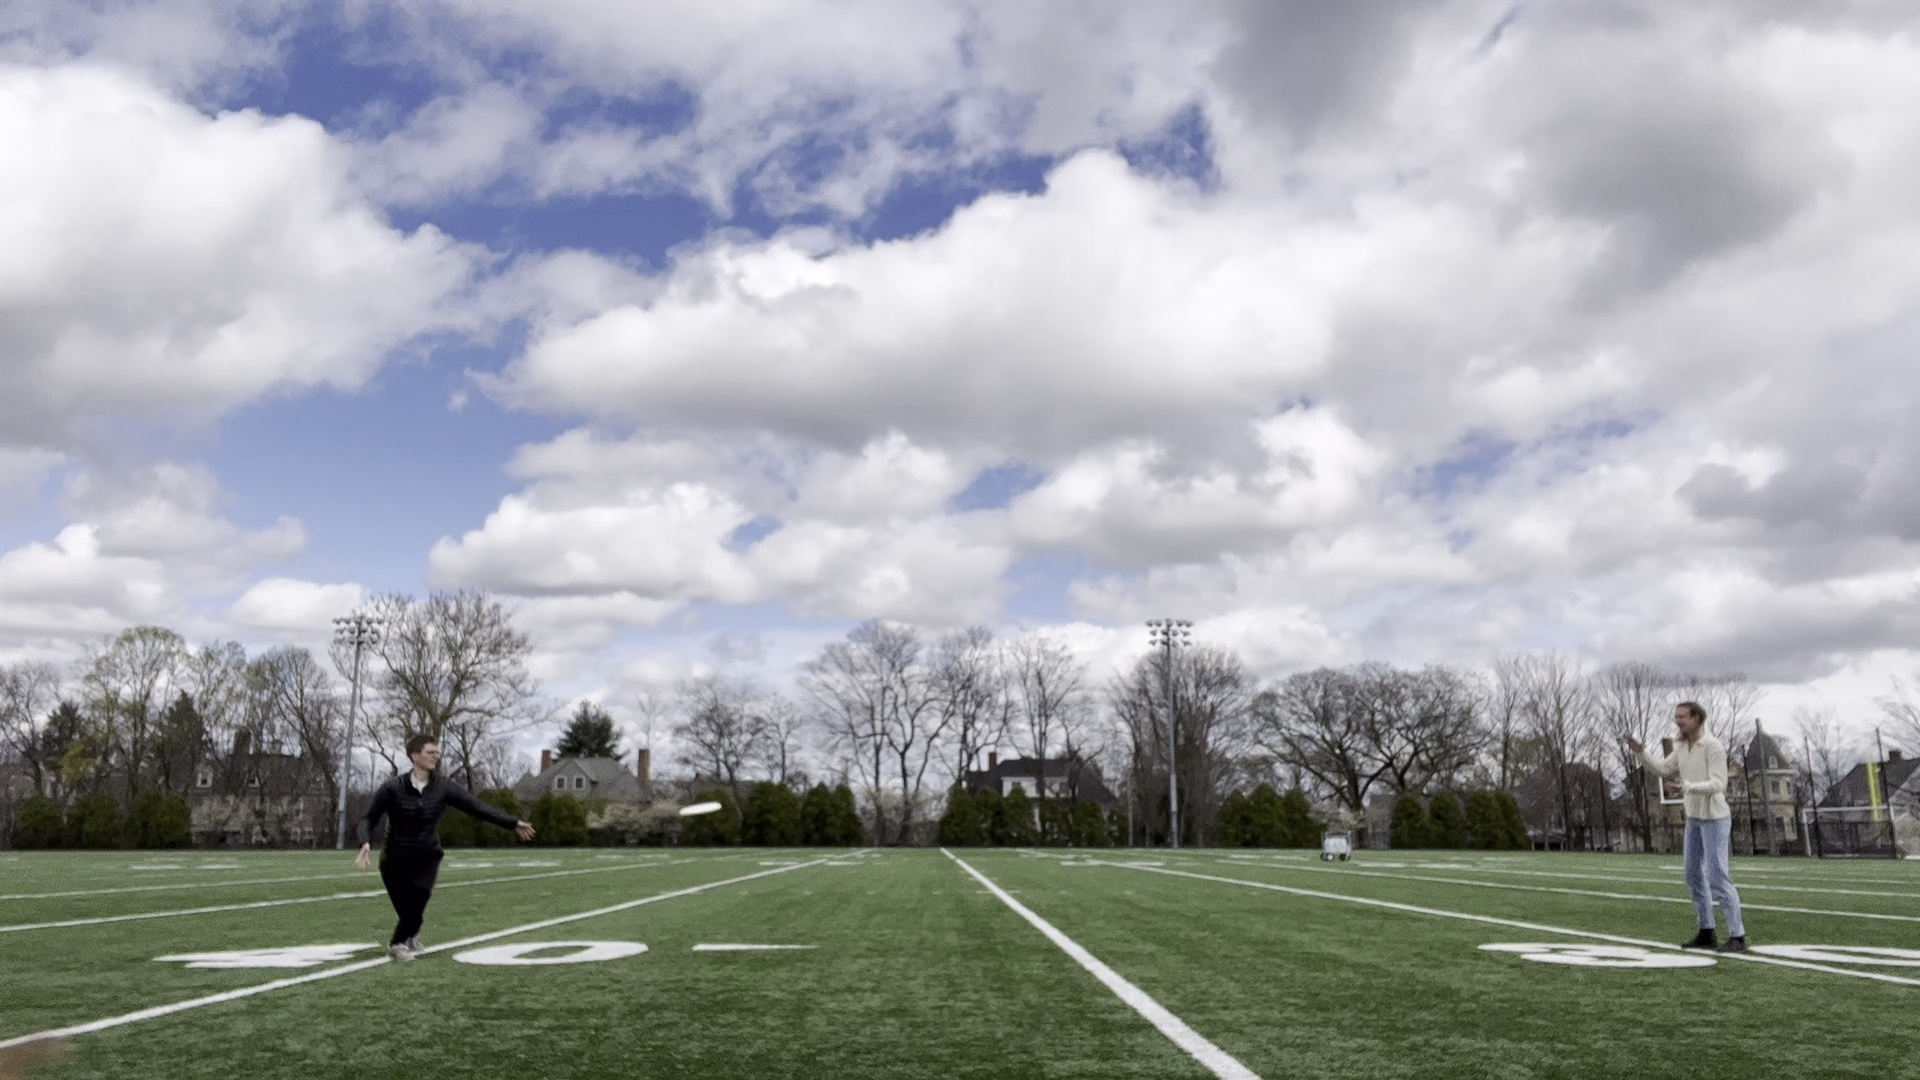Frisbee: (676, 796, 723, 822)
